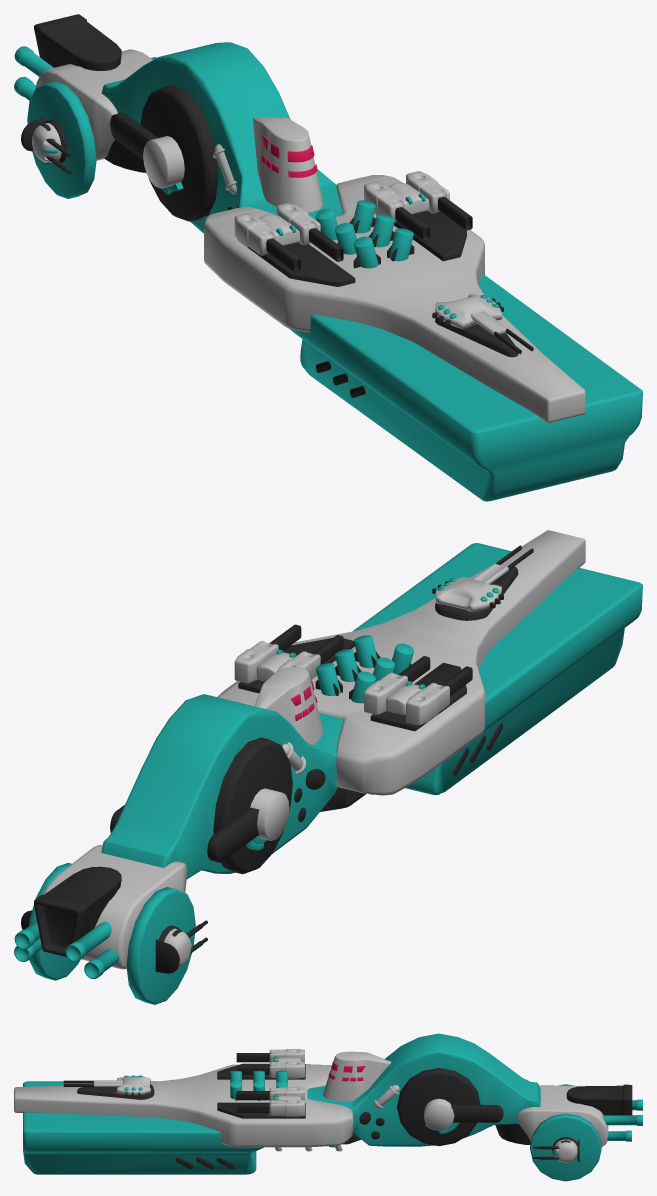
3 views of the same model, one above another, from view 1: azimuth 30°, elevation 25°; view 2: azimuth 150°, elevation 25°; view 3: azimuth 270°, elevation 25° (orthographic). The views are drawn at different scales.
Visible parts, largest first — view 1: Light_Cruiser_2.004; view 2: Light_Cruiser_2.004; view 3: Light_Cruiser_2.004.
Part boxes in pixels (bbox=[...]): Light_Cruiser_2.004: bbox=[14, 14, 642, 501]; Light_Cruiser_2.004: bbox=[14, 530, 642, 1004]; Light_Cruiser_2.004: bbox=[14, 1033, 642, 1181].
Size of the model in its own units: 15.28 by 14.97 by 69.23.
